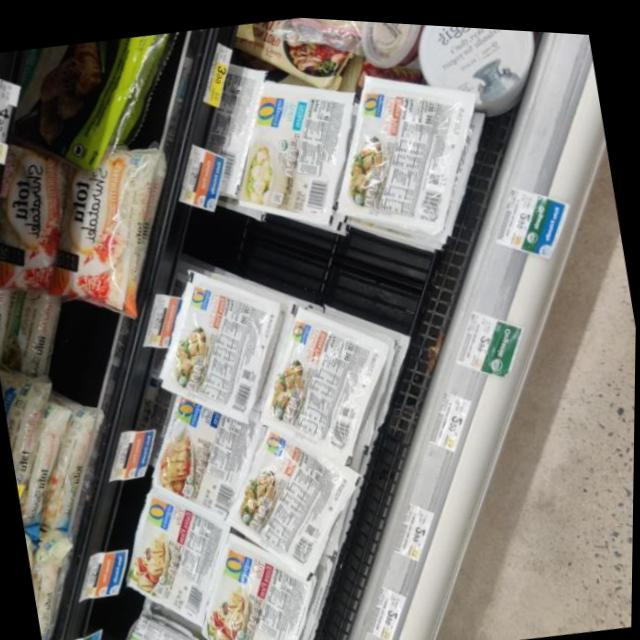Tofu: (345, 26, 506, 263), (30, 110, 198, 329), (251, 270, 402, 472), (233, 42, 374, 254), (138, 244, 293, 414), (236, 407, 364, 589), (134, 380, 273, 528), (183, 503, 332, 640), (119, 471, 234, 627)
